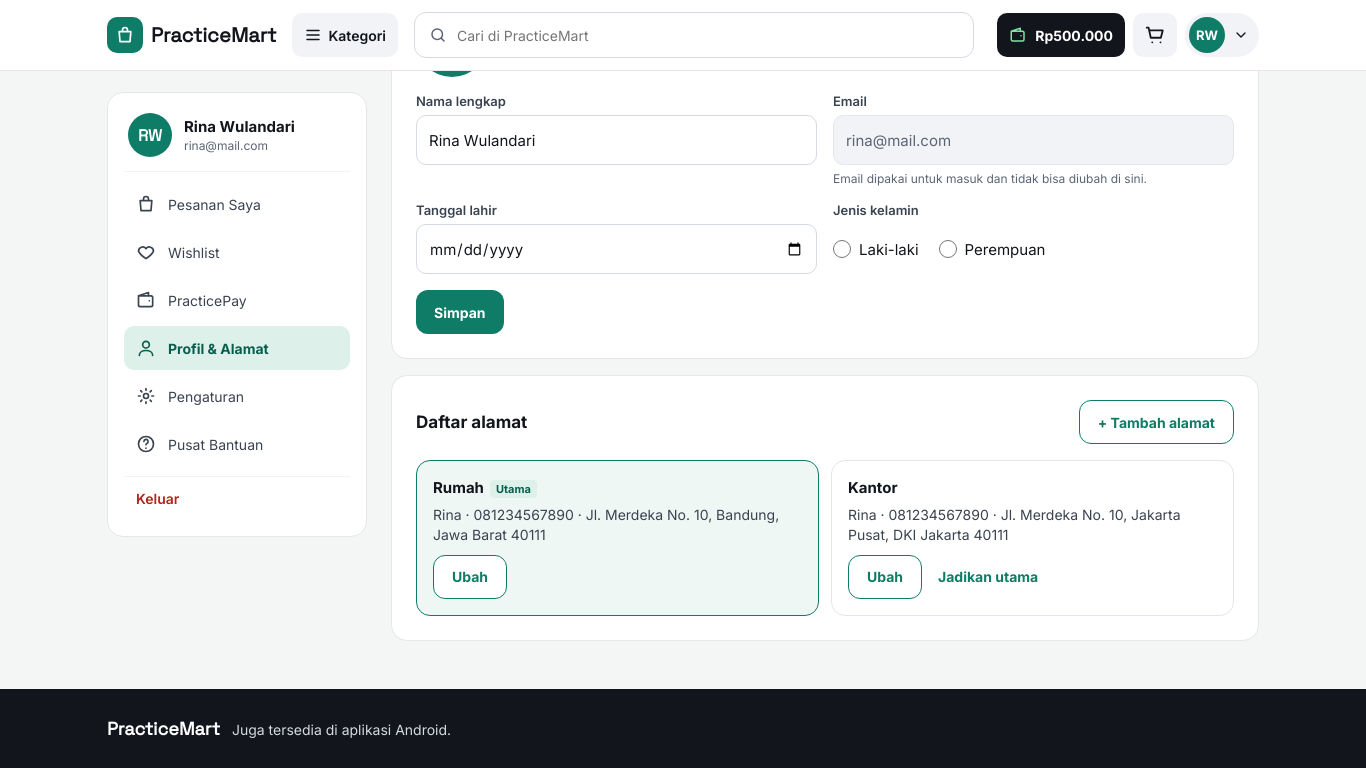
Scenario: Alamat (FR-ACC-03) › ubah alamat; alamat utama tetap satu
This screenshot has width=1366, height=768.
(page scrolled)
Click the button with test id "addr_btn_edit" below "Kantor": {"x": 885, "y": 577} [848,555,922,599]
(page scrolled)
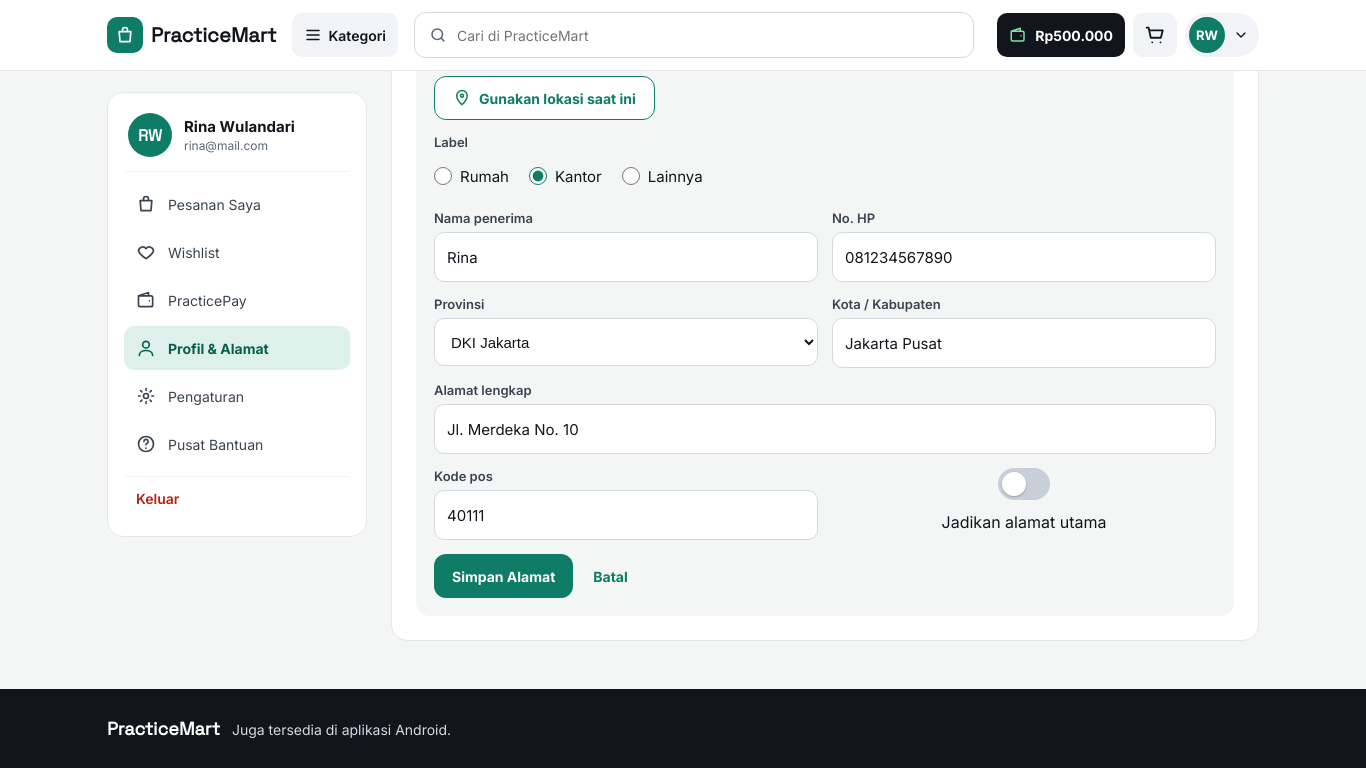
Check: the field with test id "addr_input_street" holds "Jl. Merdeka No. 10"
Replace the text in the field with test id "addr_input_street" with "Jl. Sudirman No. 1": {"x": 825, "y": 429} [434,404,1216,454]
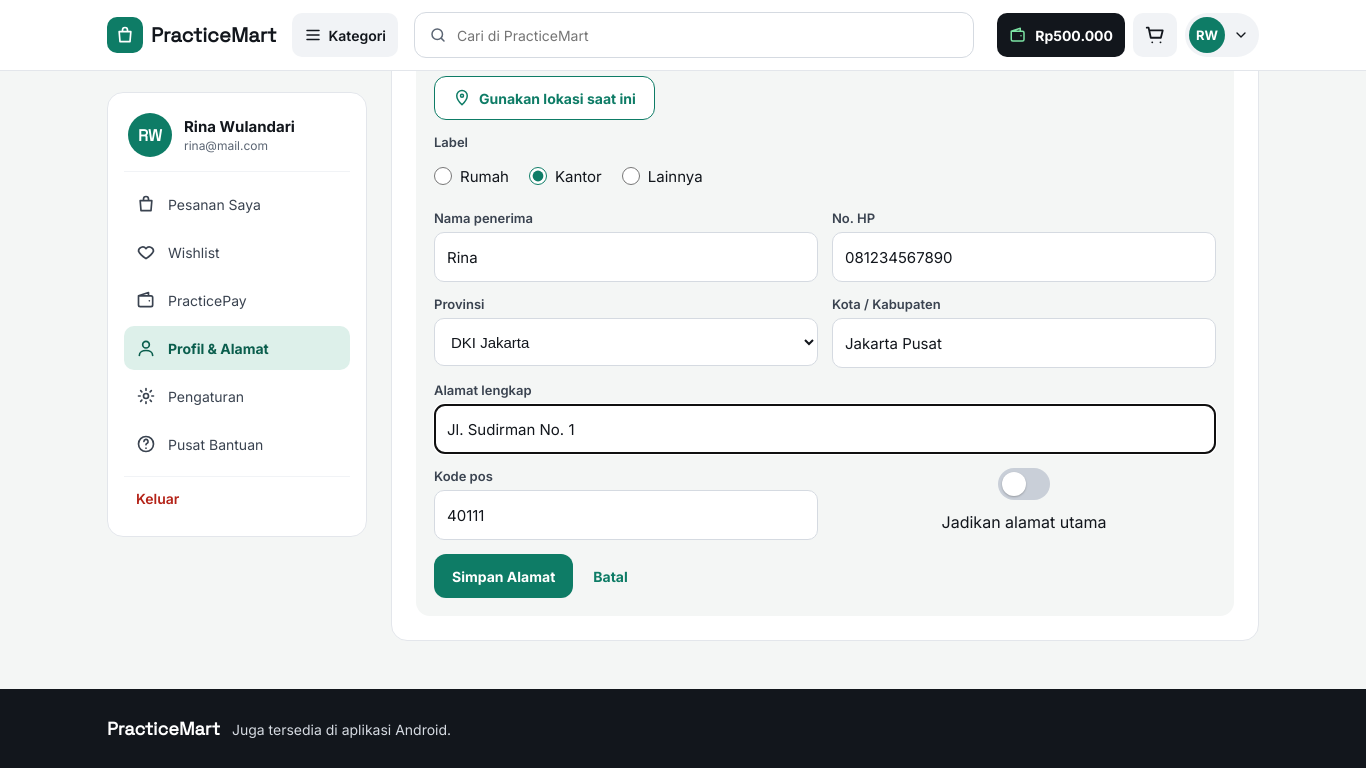
Click the button with test id "addr_btn_save": {"x": 504, "y": 576} [434,554,573,598]
(page scrolled)
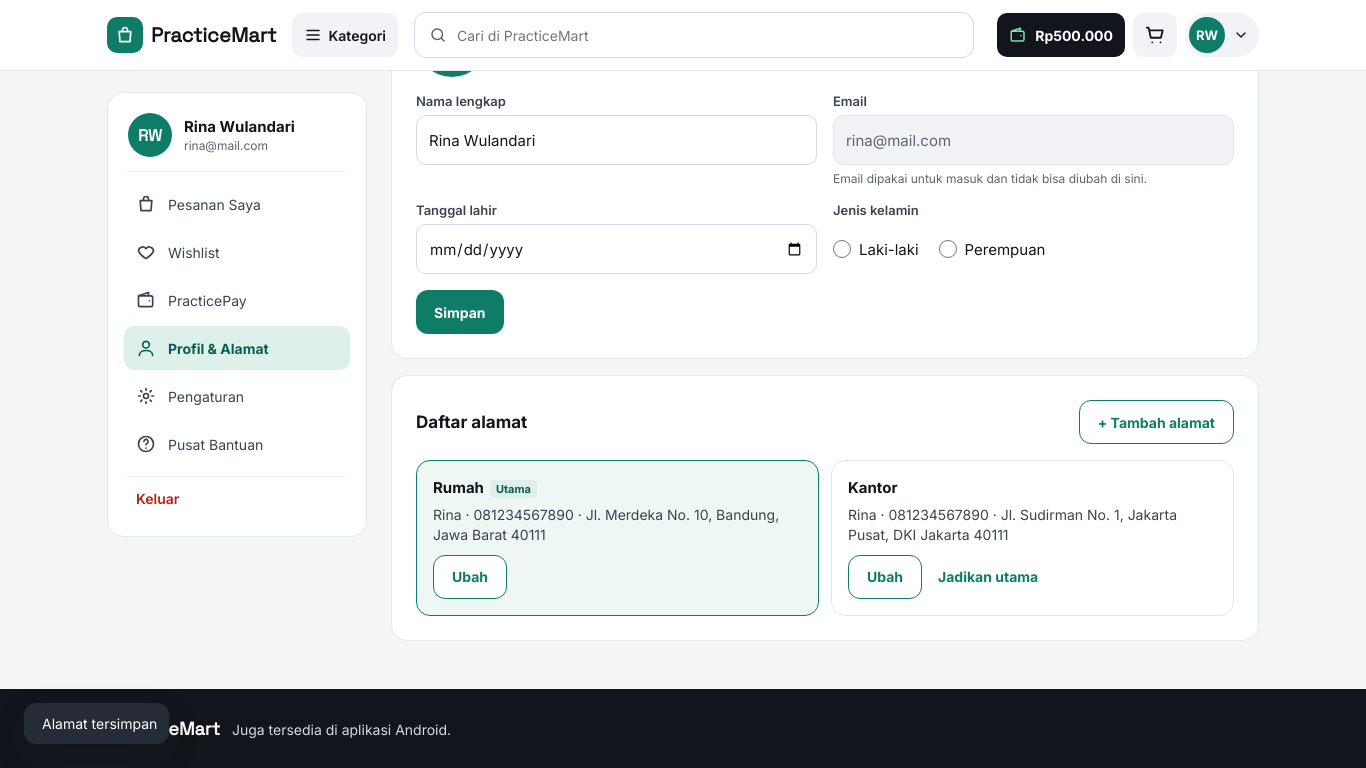
Click the button with test id "addr_btn_edit" below "Rumah": {"x": 470, "y": 577} [433,555,507,599]
(page scrolled)
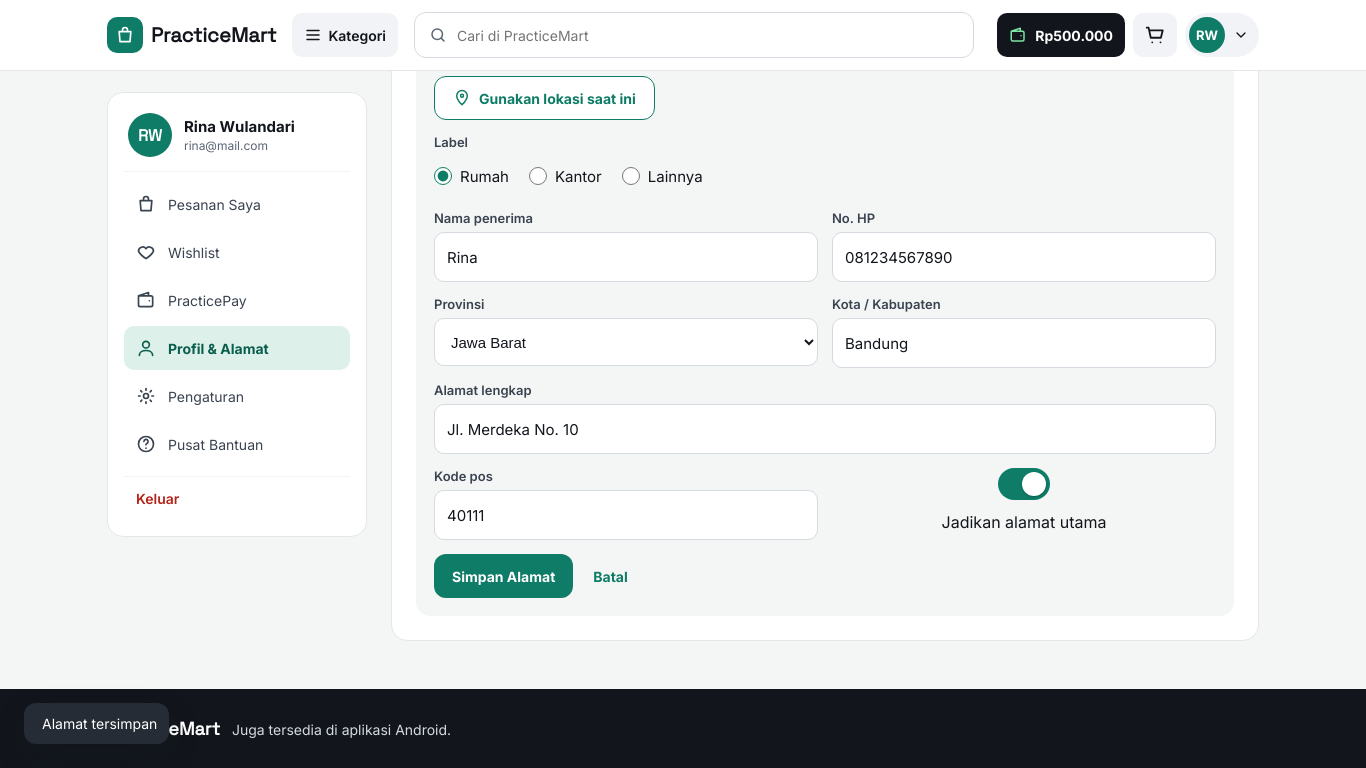
Click the button with test id "addr_btn_cancel": {"x": 611, "y": 576} [585,554,636,598]
(page scrolled)
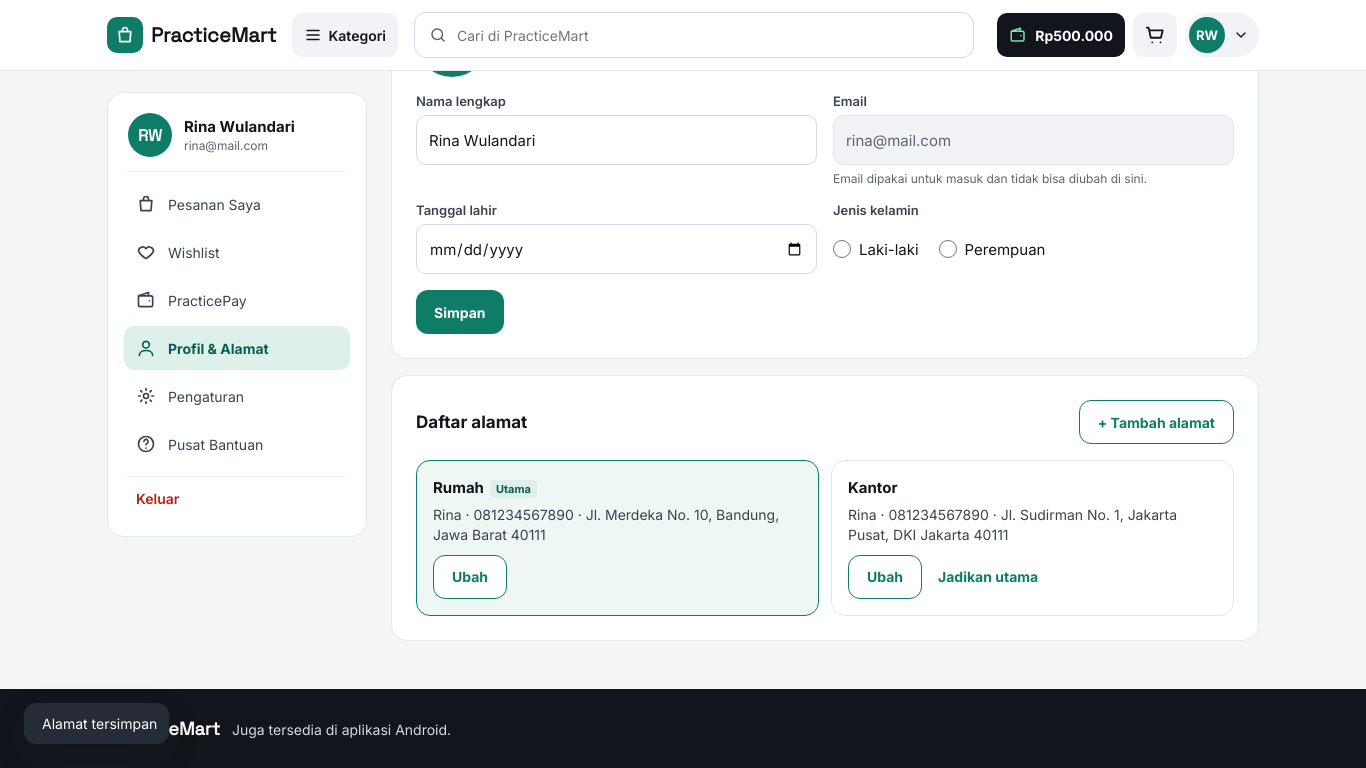
Check: the form with test id "addr_form" is gone
